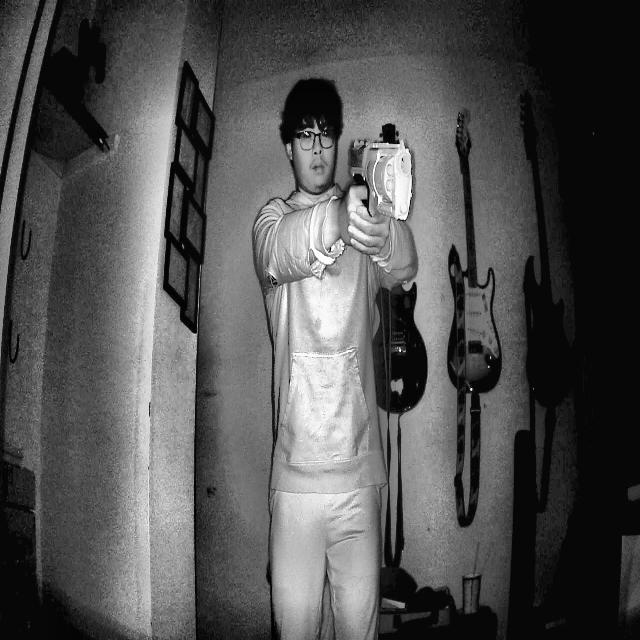Nerf_Blaster: (342, 125, 424, 289)
